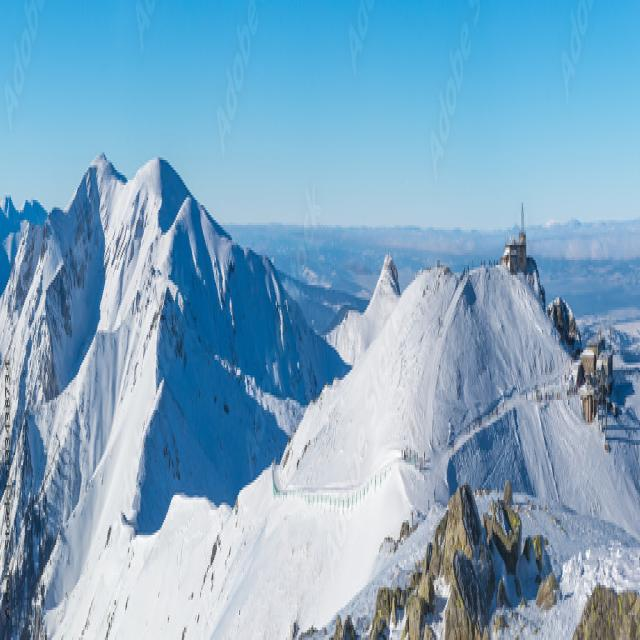Giewont: (372, 192, 412, 336)
Kasprowy Wierch: (481, 135, 560, 376)
Kopa Kondracka: (166, 130, 216, 269)
Krzesanica: (80, 78, 127, 238)
Malolaczniak: (134, 80, 184, 236)
